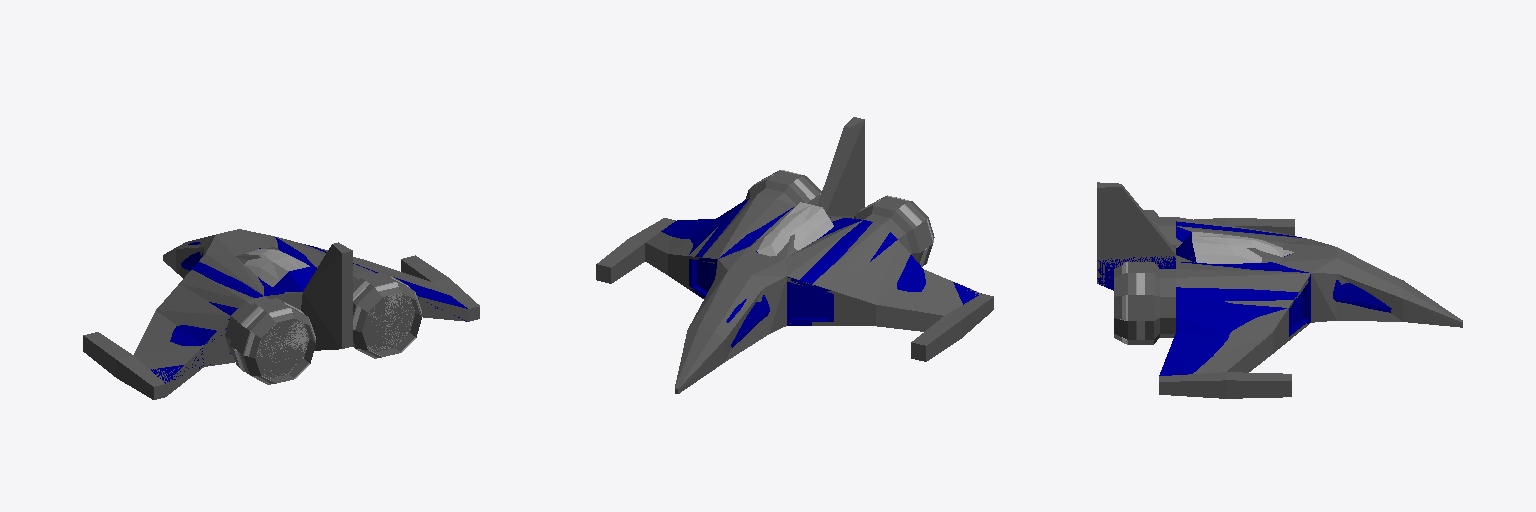
The picture shows the model from 3 angles: view 1: azimuth 30°, elevation 25°; view 2: azimuth 150°, elevation 25°; view 3: azimuth 270°, elevation 25°; orthographic projection.
Visible parts, largest first — view 1: shipLo_Untitled.001, shipHi_Untitled; view 2: shipLo_Untitled.001, shipHi_Untitled; view 3: shipLo_Untitled.001, shipHi_Untitled.
Part boxes in pixels (left/top/right/bottom): shipLo_Untitled.001: left=83, top=229, right=479, bottom=399; shipHi_Untitled: left=151, top=237, right=467, bottom=384; shipLo_Untitled.001: left=596, top=117, right=993, bottom=393; shipHi_Untitled: left=661, top=170, right=981, bottom=347; shipLo_Untitled.001: left=1097, top=182, right=1462, bottom=398; shipHi_Untitled: left=1097, top=221, right=1391, bottom=375.
Size of the model in its own units: 28.98 by 11.77 by 27.55.